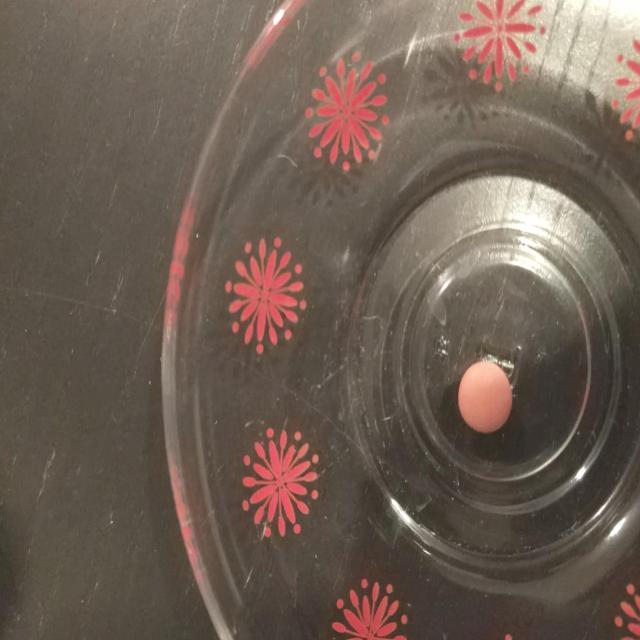pill: (456, 358, 518, 438)
